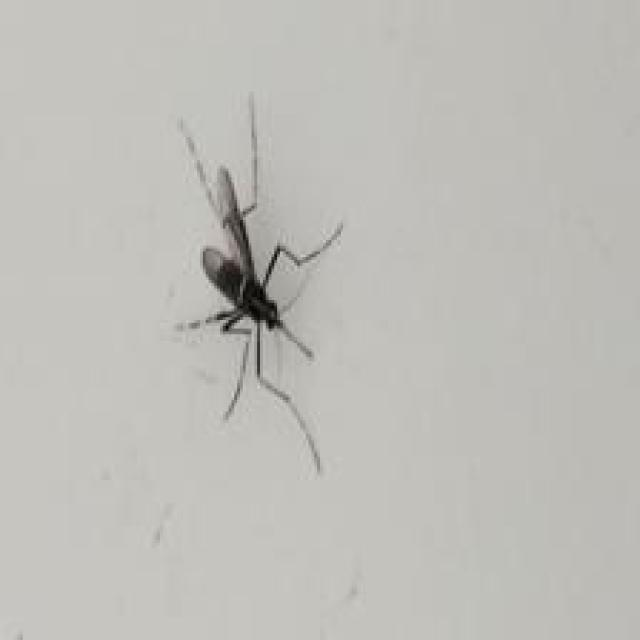Aedes albopictus: (170, 92, 344, 474)
